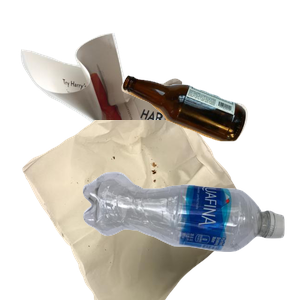glass: (119, 73, 300, 207)
paper: (18, 30, 213, 210)
plastic: (80, 169, 300, 300)
trash: (20, 120, 260, 300)
